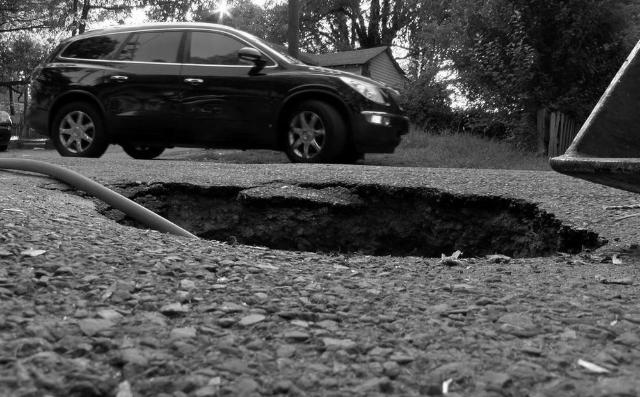Pothole: (92, 178, 610, 268)
